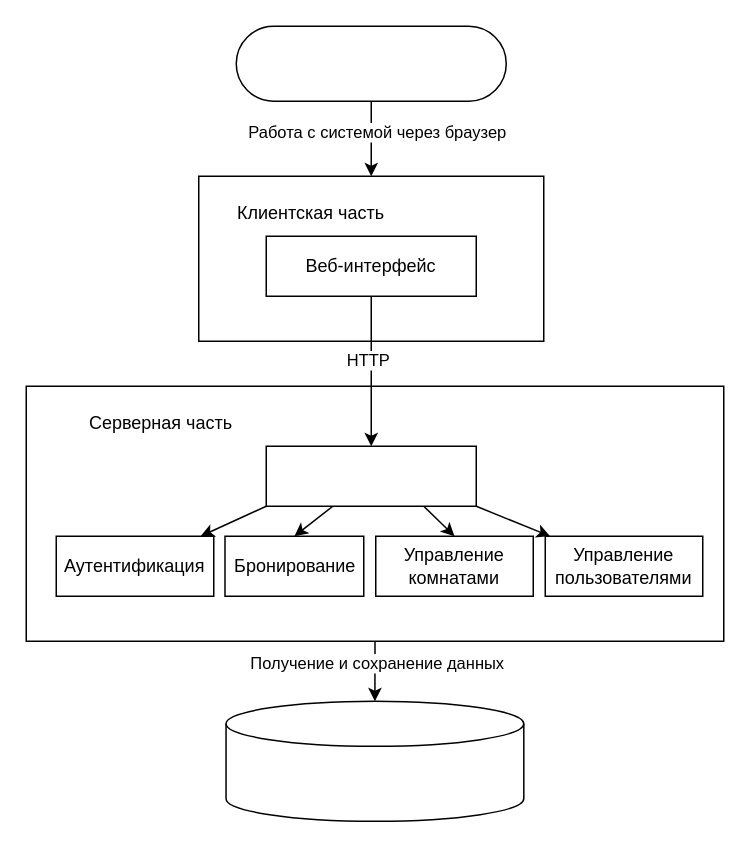
Some shapes in this 750 by 848 pixel diagram are drawn without their labels. The centre of each missing label's shape, as x and y in pixels:
"База данных" belongs at (374,760).
"Пользователь" belongs at (370,63).
"Серверное приложение" belongs at (370,475).
